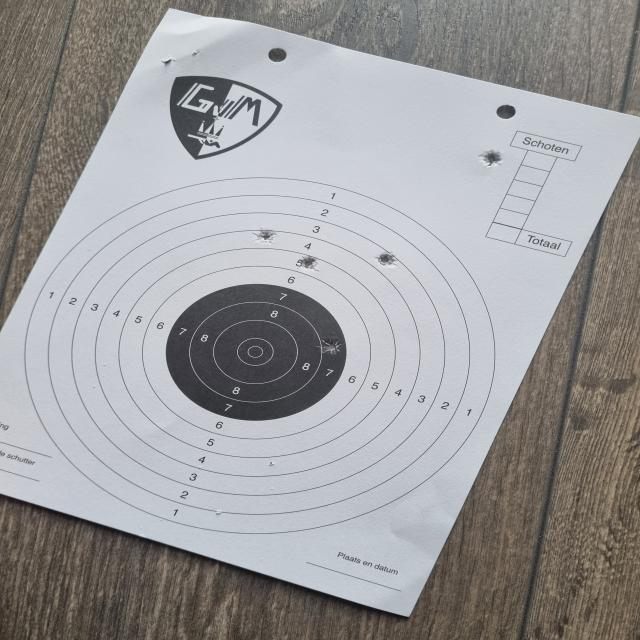0: (477, 150, 502, 166)
3: (375, 251, 398, 267)
4: (252, 229, 276, 244)
5: (298, 256, 320, 272)
8: (318, 338, 345, 356)
Target: (25, 176, 498, 536)
black_contour: (167, 283, 345, 421)
